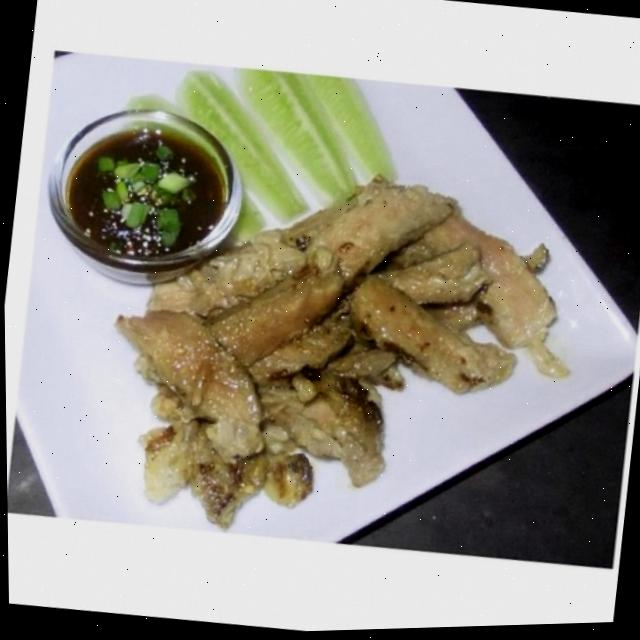猪肉菜式: (22, 50, 584, 568)
